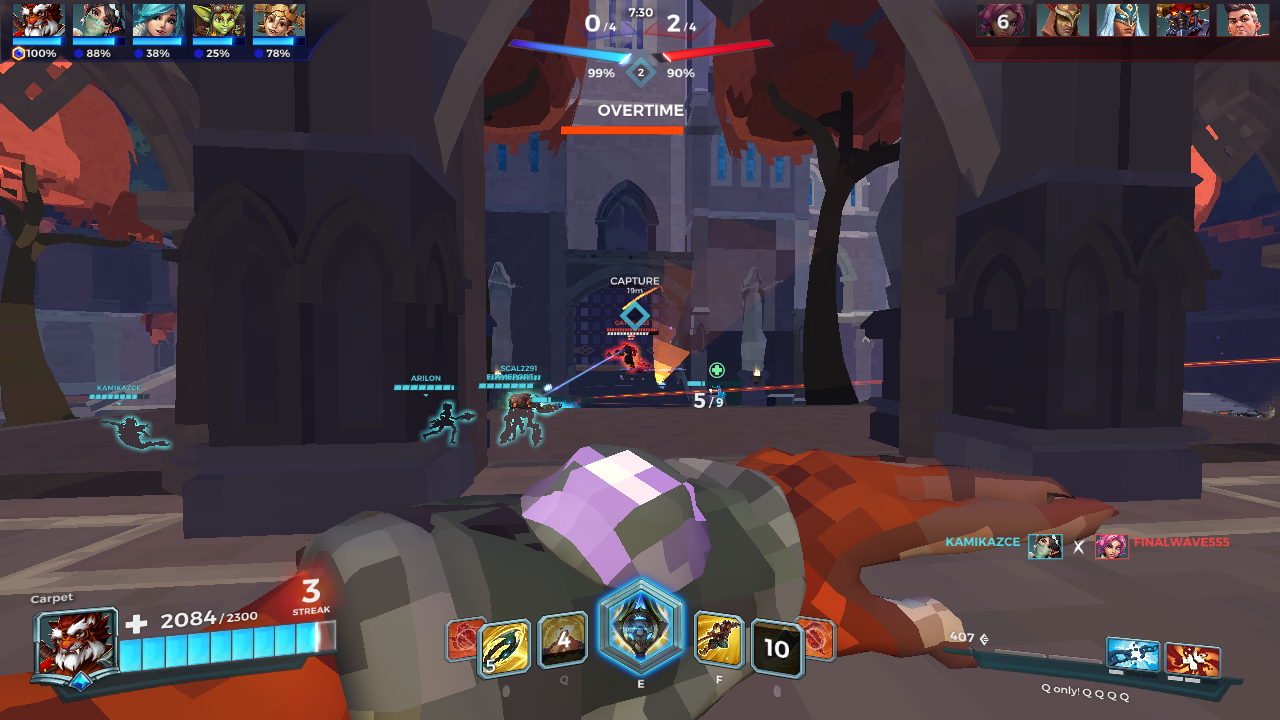model: (609, 341, 647, 374)
